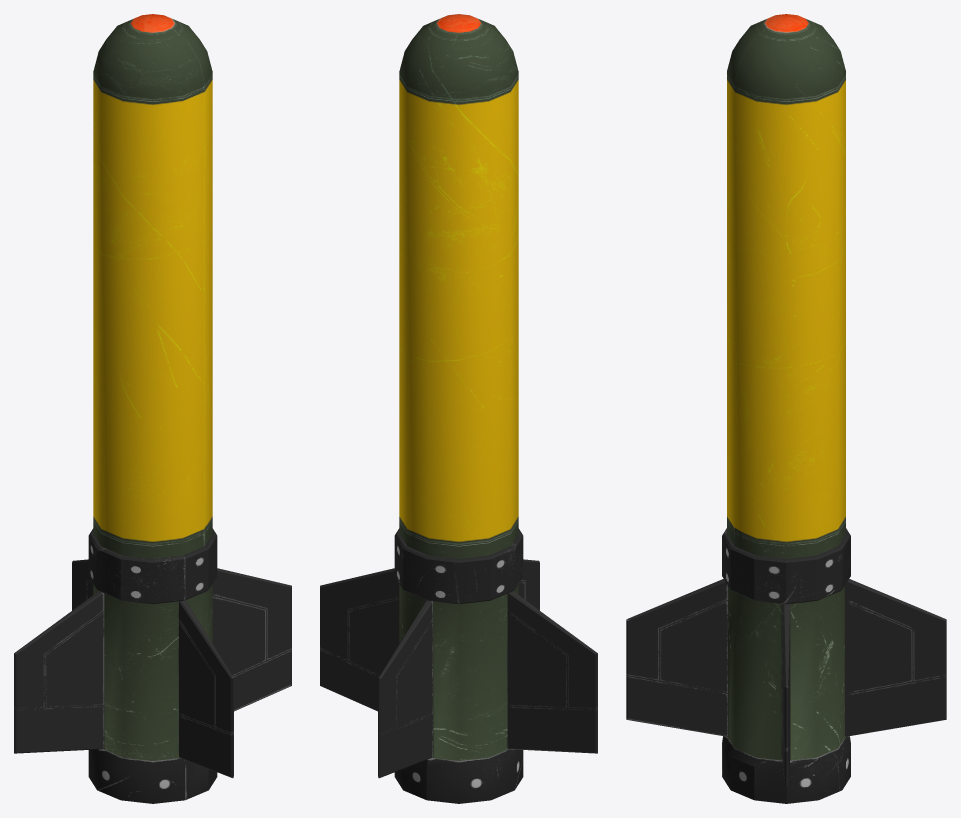
Rendered from Missile.fbx.
The picture shows the model from 3 angles, left to right: view 1: azimuth 30°, elevation 25°; view 2: azimuth 150°, elevation 25°; view 3: azimuth 270°, elevation 25°; orthographic projection.
Parts seen in each view (by area): view 1: missile; view 2: missile; view 3: missile.
Boxes of the visible parts, left/top/right/bottom form: missile: left=14, top=14, right=291, bottom=803; missile: left=320, top=14, right=597, bottom=803; missile: left=626, top=14, right=946, bottom=803.
Bounding box in the file's own units: 64.65 × 169 × 64.65.
